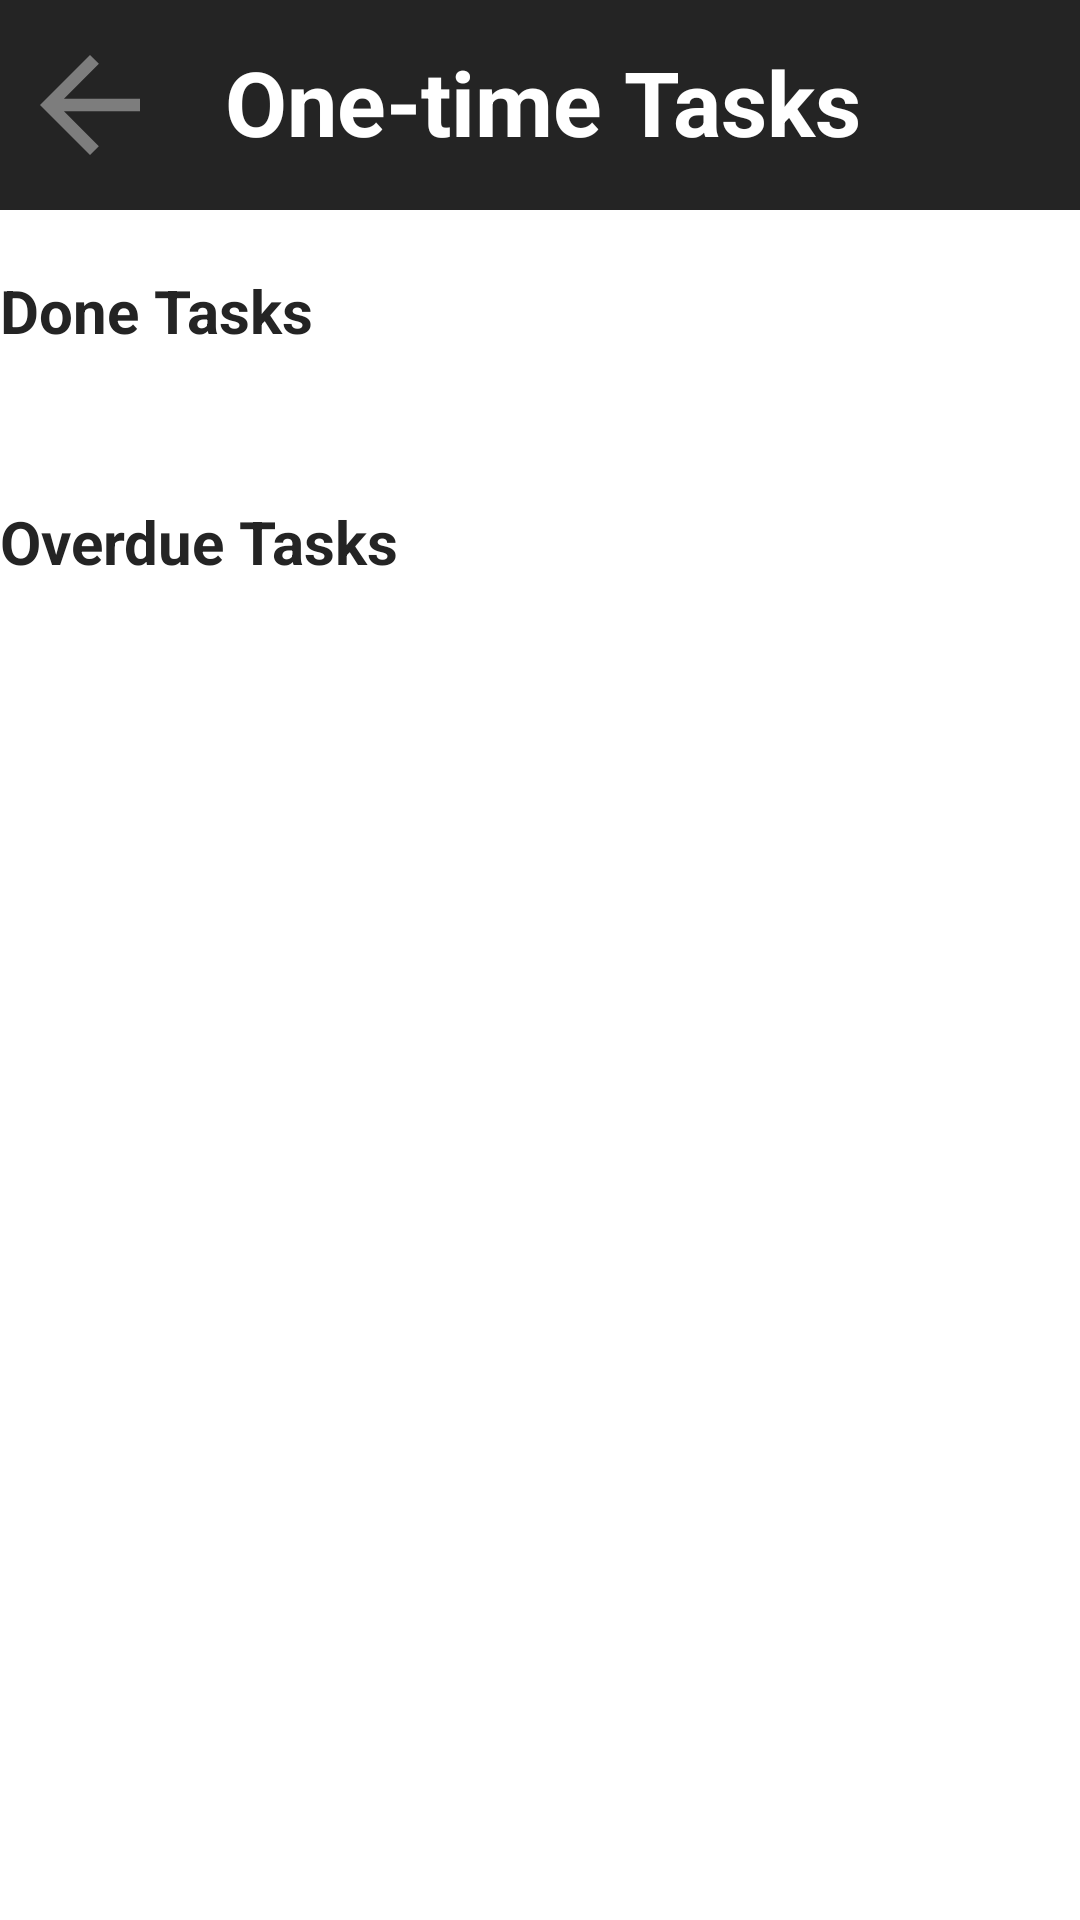

Screen size 1080x1920. Icon name, then its box in pixels as (x1, y1, x2, y2):
arrow back: (40, 55, 140, 155)
